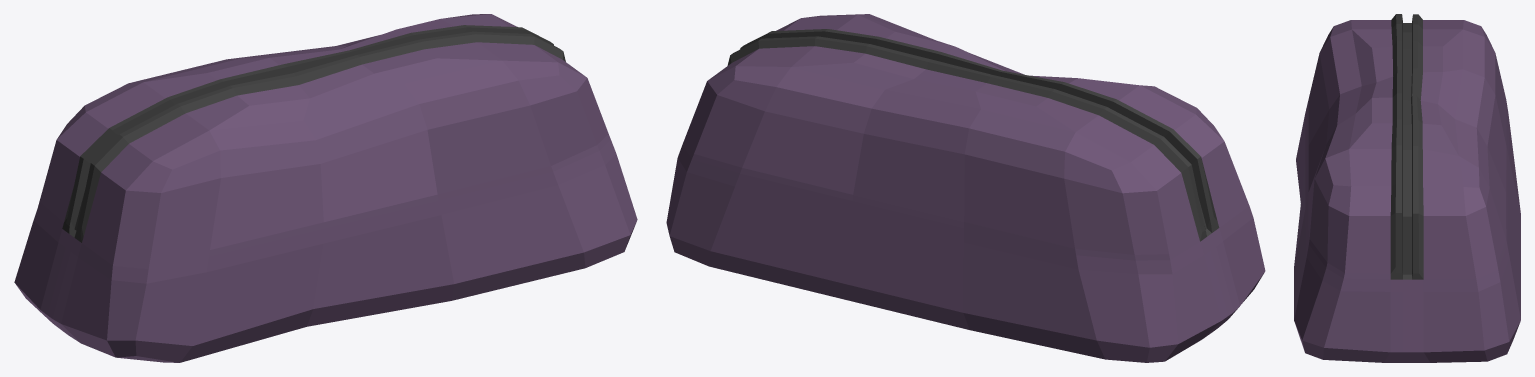
Rendered from pencil_case_3.fbx.
The picture shows the model from 3 angles, left to right: view 1: azimuth 30°, elevation 25°; view 2: azimuth 150°, elevation 25°; view 3: azimuth 270°, elevation 25°; orthographic projection. The views are drawn at different scales.
Parts seen in each view (by area): view 1: pencil case 3; view 2: pencil case 3; view 3: pencil case 3.
Boxes of the visible parts, x1,y1,x2,y2 form: pencil case 3: (14, 14, 637, 362); pencil case 3: (666, 14, 1265, 362); pencil case 3: (1294, 14, 1520, 362).
Bounding box in the file's own units: 35.63 × 13.71 × 15.28.
